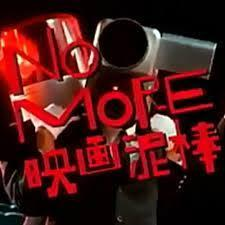no more kid: (90, 12, 218, 129)
